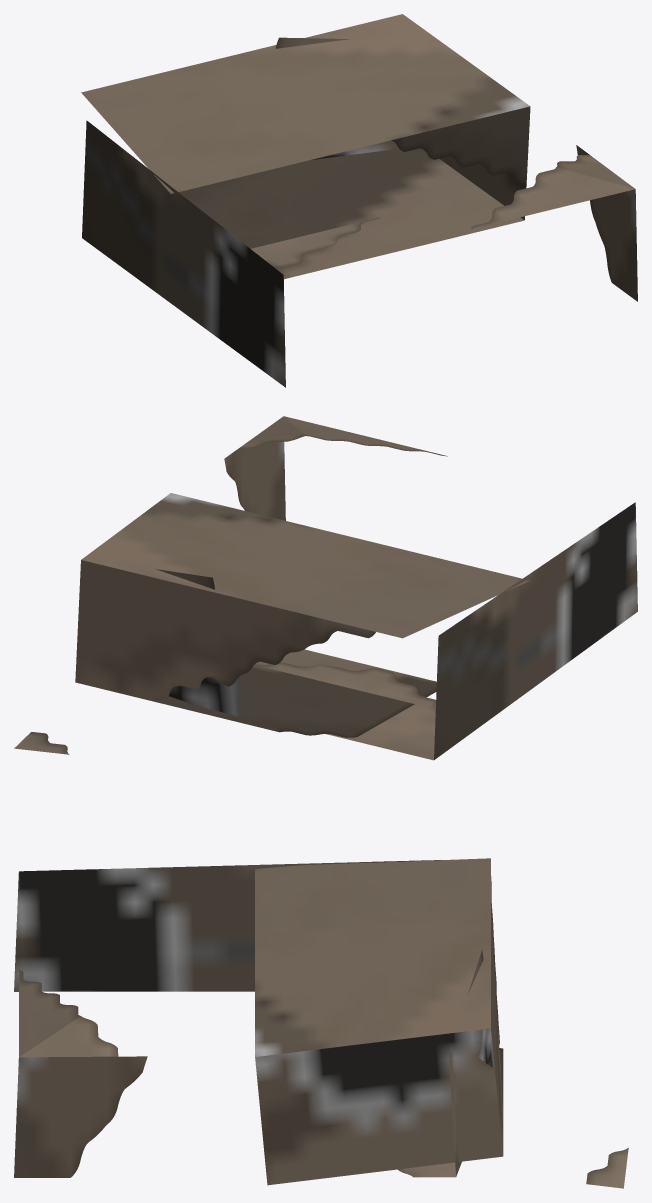
File: tmspmg_h.obj
3 renders of one model, top to bottom at view 1: azimuth 30°, elevation 25°; view 2: azimuth 150°, elevation 25°; view 3: azimuth 270°, elevation 25°, orthographic. The views are drawn at different scales.
Parts seen in each view (by area): view 1: mesh; view 2: mesh; view 3: mesh.
Boxes of the visible parts, box(x1,y1,x2,y2) form: mesh: box(81, 14, 637, 387); mesh: box(14, 416, 637, 760); mesh: box(14, 858, 628, 1188).
Size of the model in its own units: 0.5938 by 0.2721 by 0.8238.
